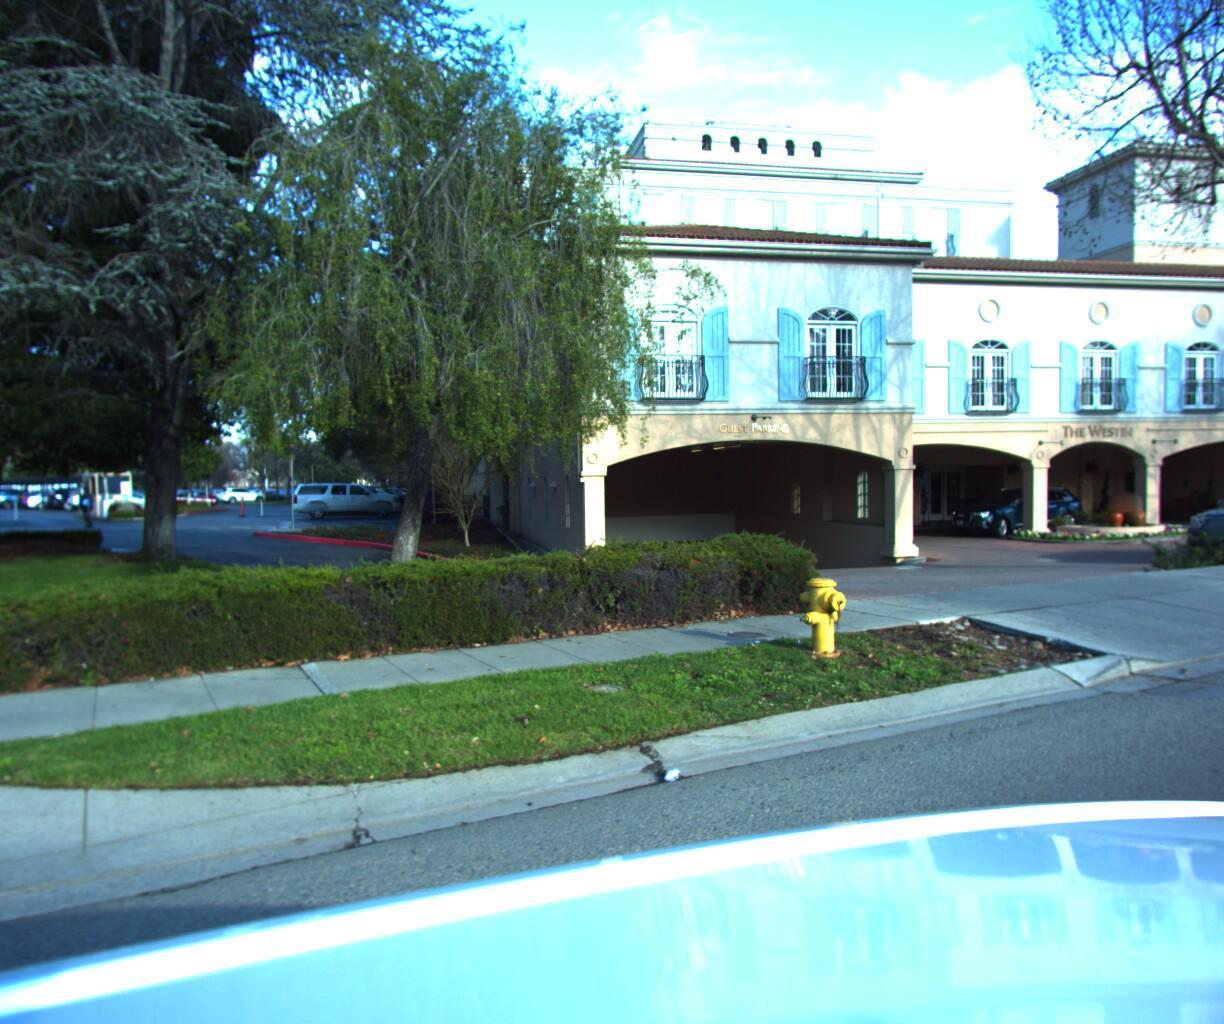car: (941, 479, 1098, 535), (1179, 465, 1224, 568)
